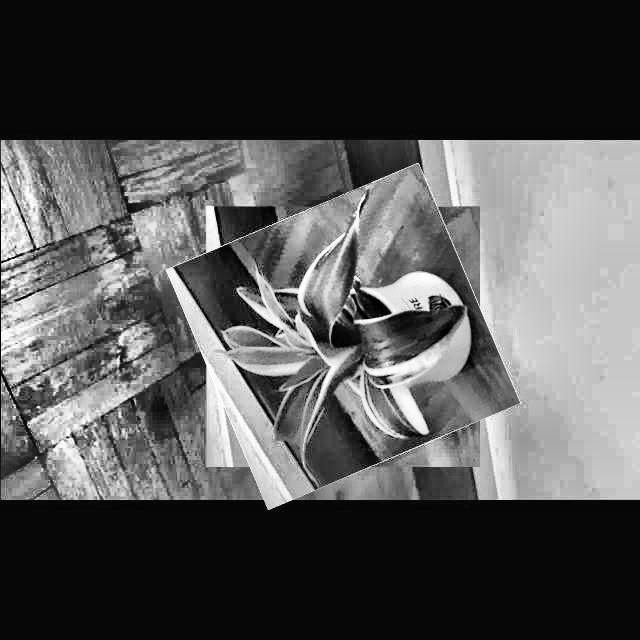plants: (186, 184, 500, 488)
